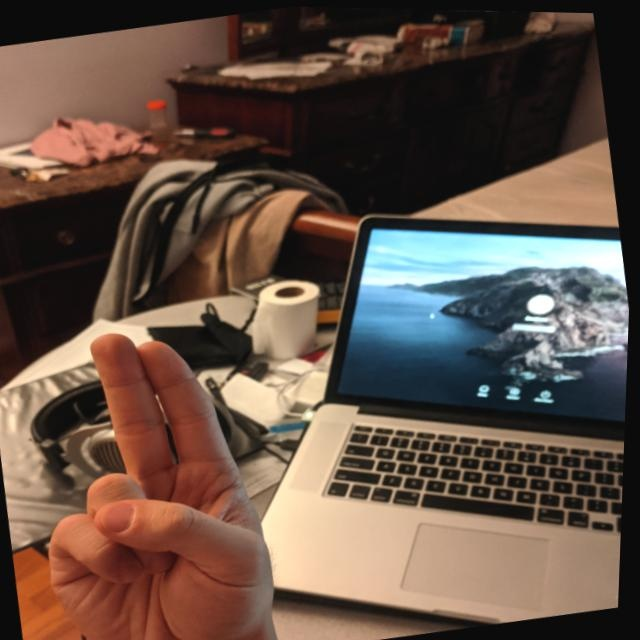U: (2, 301, 312, 639)
